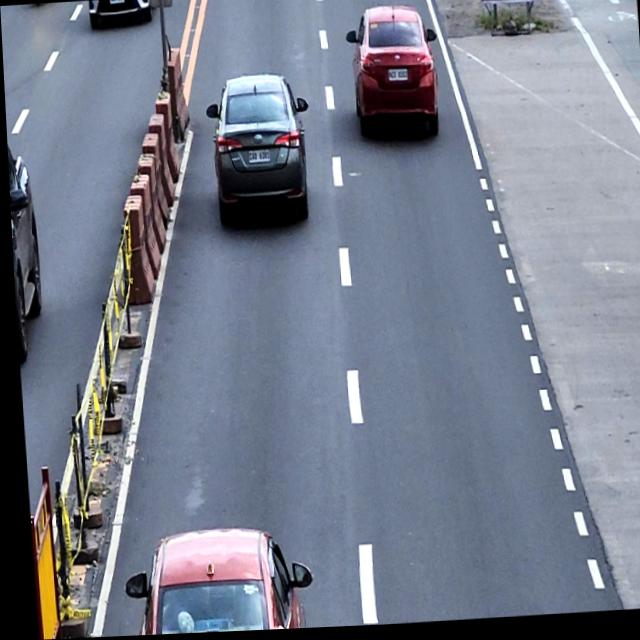Car: (114, 523, 308, 637), (202, 72, 313, 226), (343, 5, 441, 143), (6, 136, 42, 362), (87, 0, 151, 29)
License-Plate: (245, 150, 270, 166), (386, 70, 408, 86)
